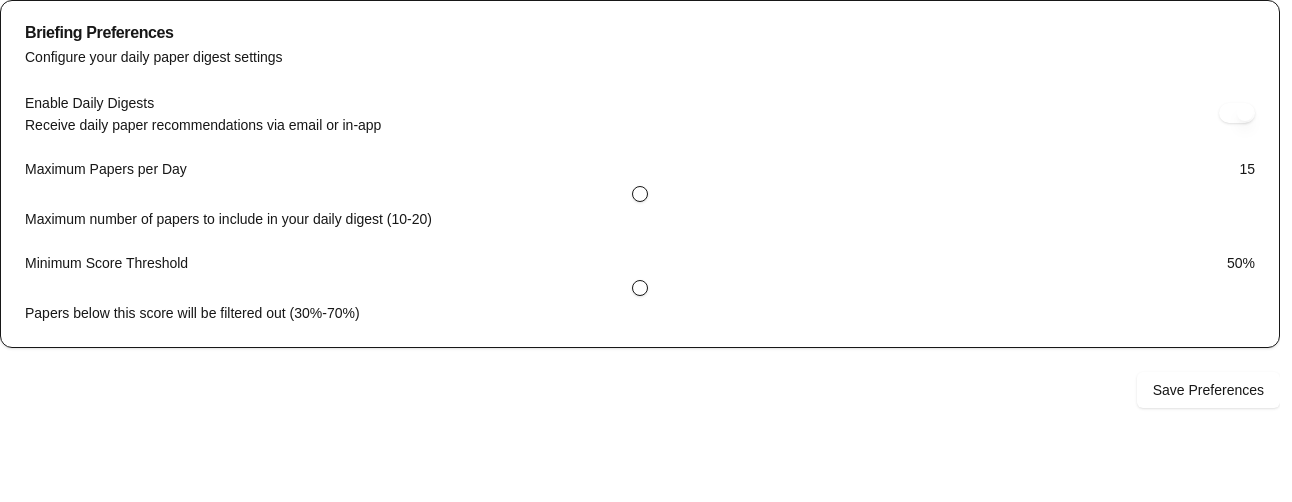
Test: PreferencesSettings › Error Handling › should display error message when save fails
Click the button "Save Preferences": (1208, 390) [1137,372,1280,408]
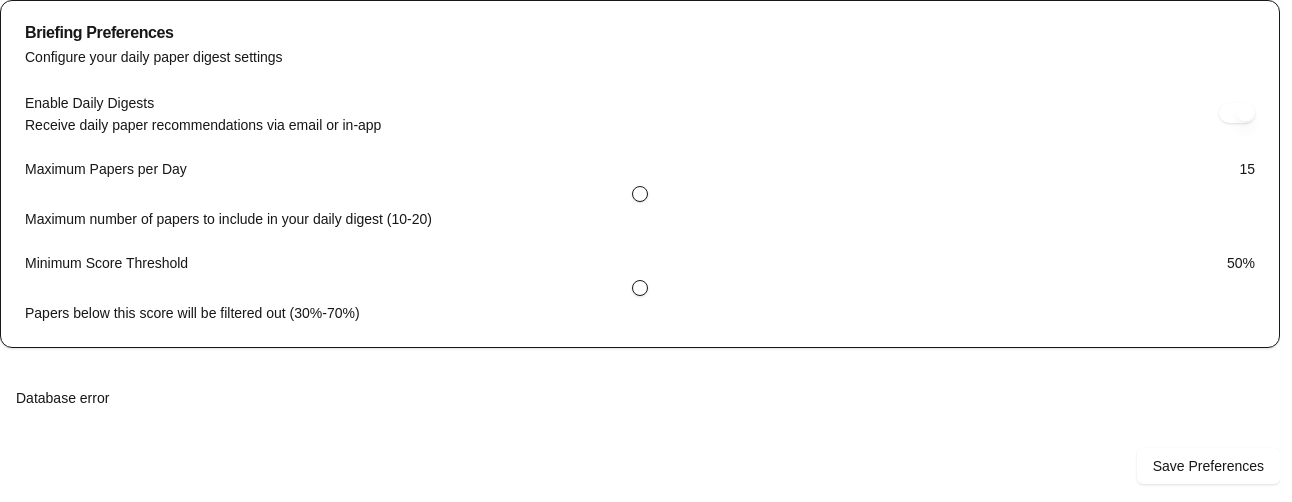
Now the text "Database error" is shown, box [16,390,109,406]
